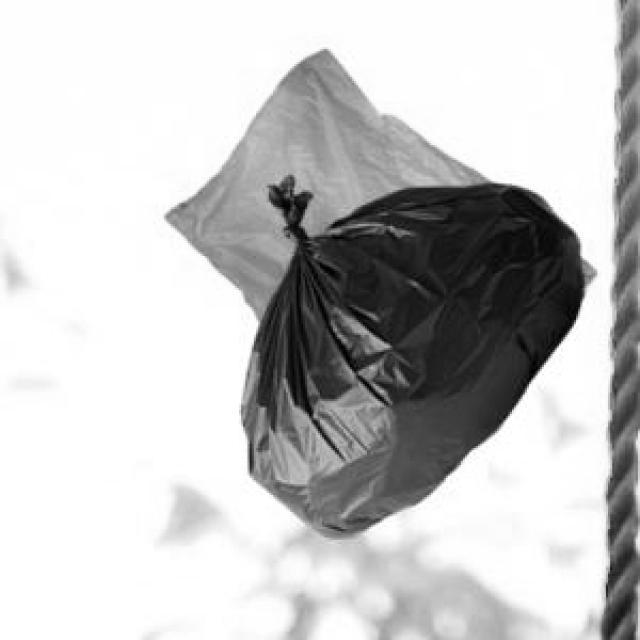miscellaneous trash: (237, 173, 580, 533)
